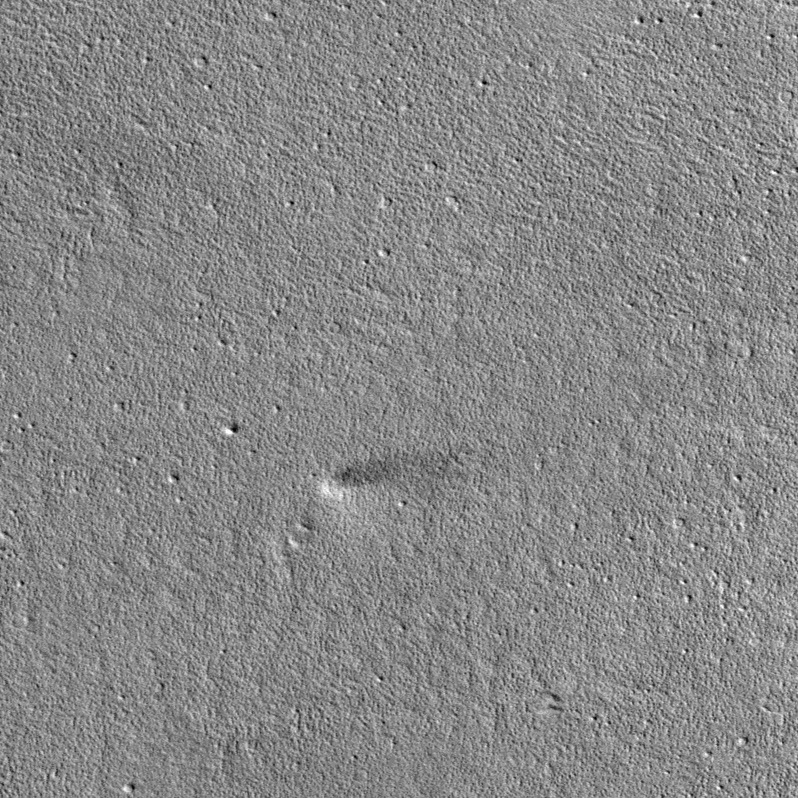dust_devil: (319, 452, 457, 502)
